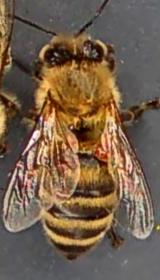varroa_mite: (91, 136, 115, 163)
